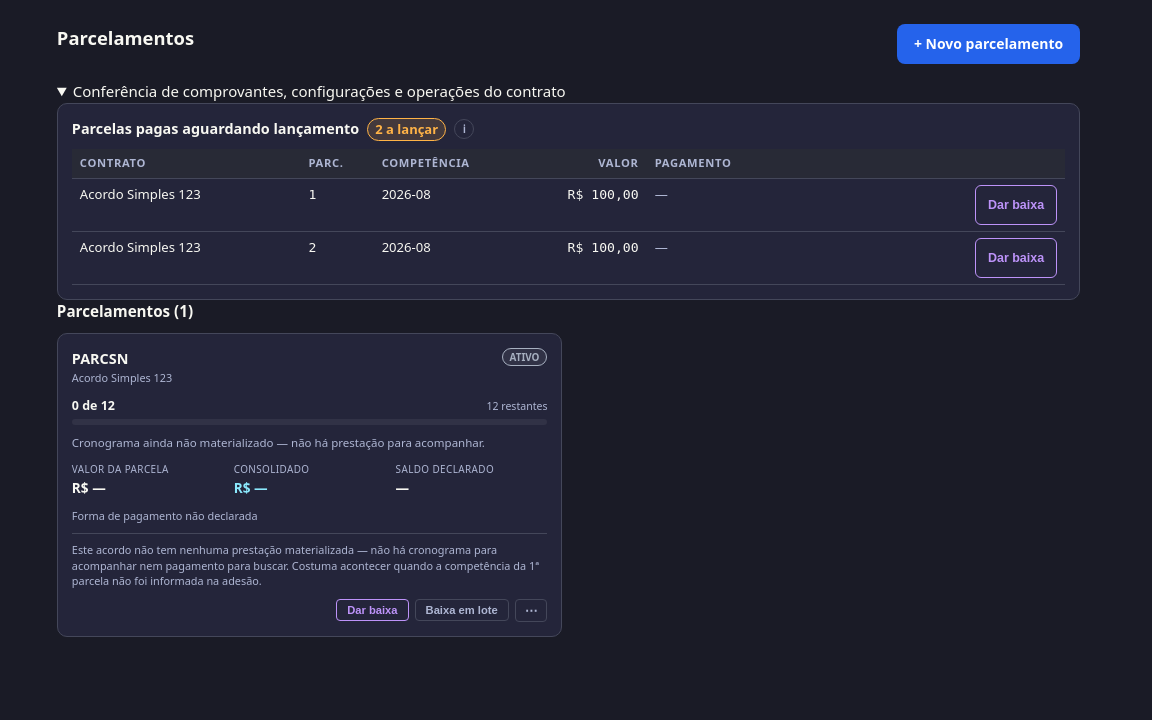
Test: baixa em lote distingue sucesso de recusa e preserva o motivo da parcela pendente
What coordinates should you click on to do the following:
click the button "Baixa em lote"
I would click on:
 (462, 610)
Its box is [414,599,509,621].
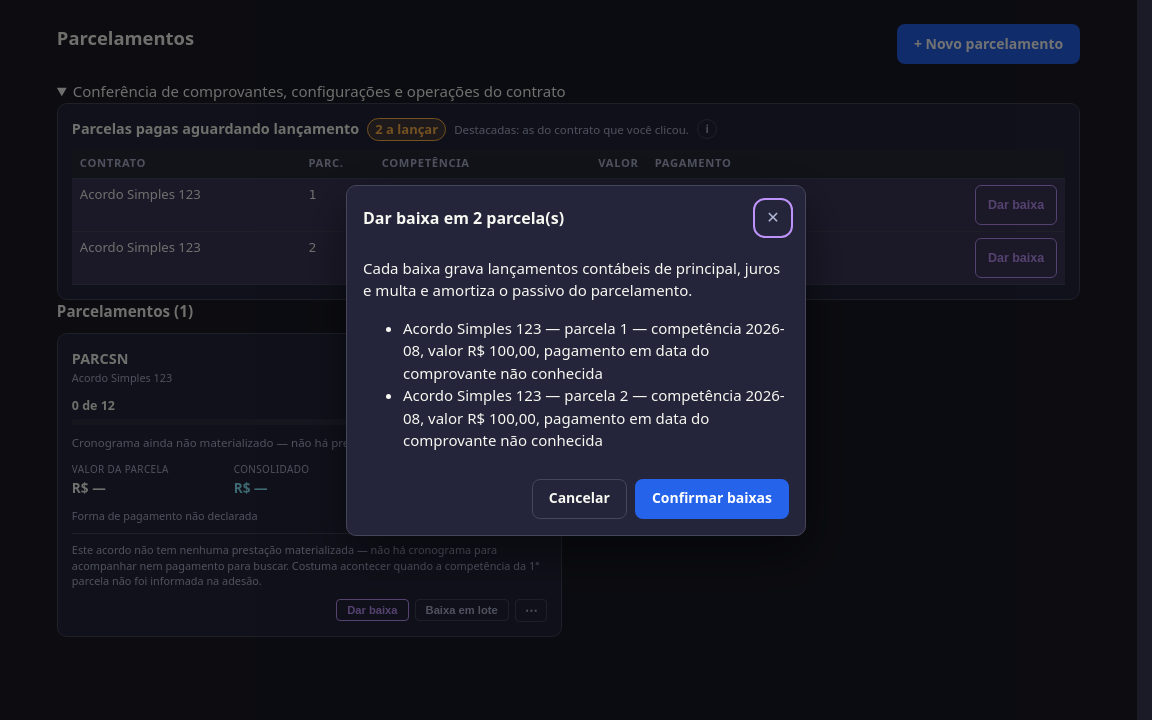
What coordinates should you click on to do the following:
click the button "Confirmar baixas"
I would click on:
 (712, 498)
Its box is [635,478,789,518].
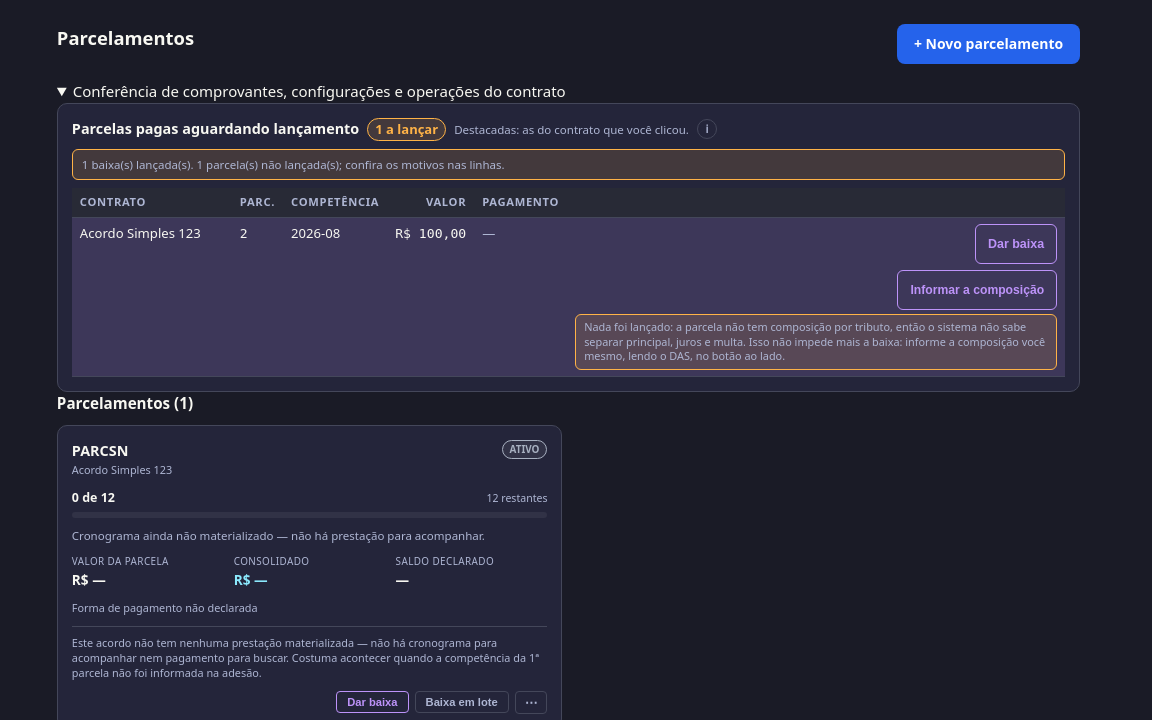
Now the button "Informar a composição" is shown, box [897,270,1057,310]
